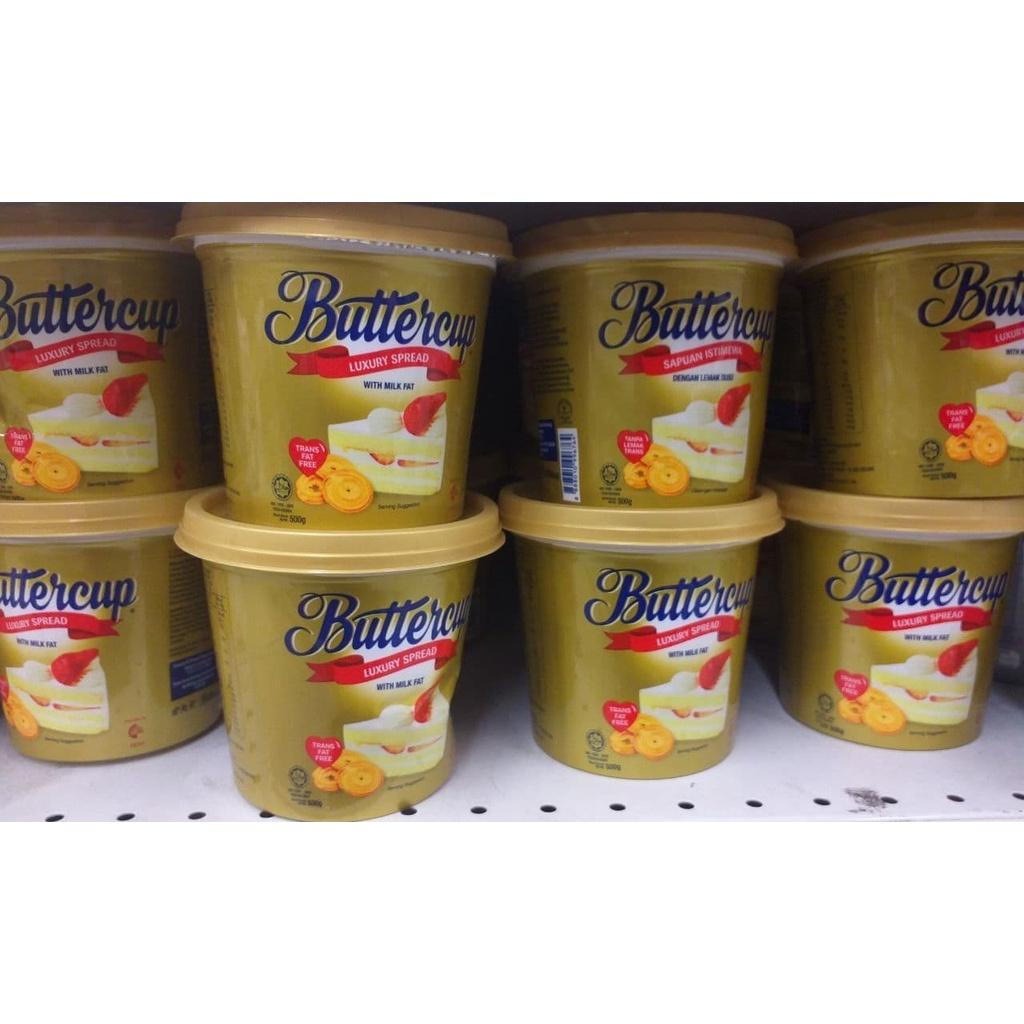plastic: (779, 204, 1023, 748), (176, 204, 510, 530), (176, 489, 502, 819), (500, 480, 781, 777), (518, 211, 794, 509), (0, 493, 220, 761)
